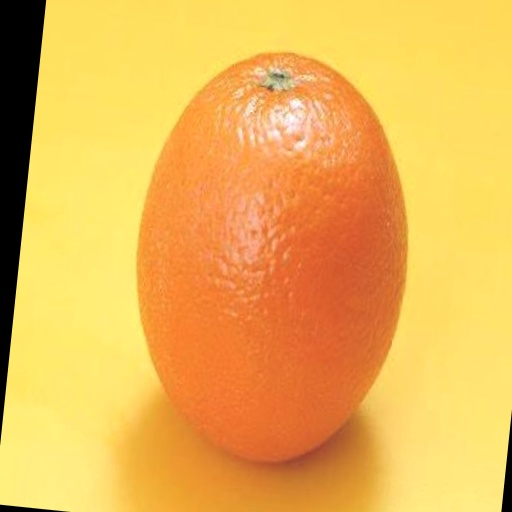fruit: (137, 54, 407, 461)
